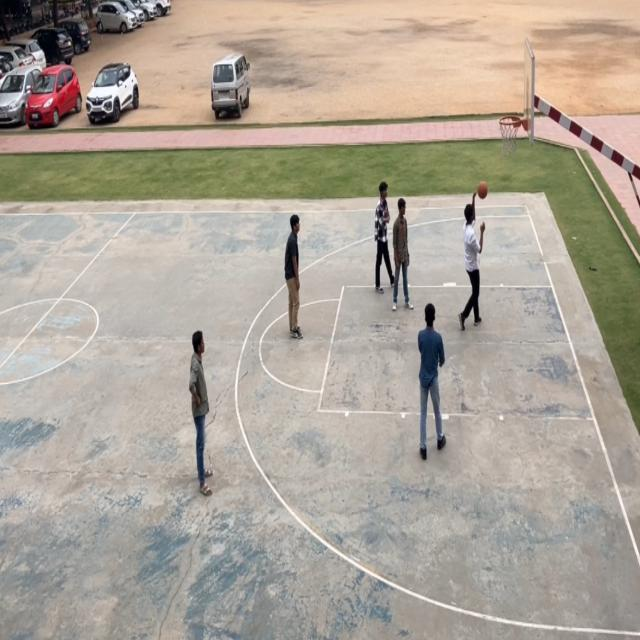basketball: (477, 181, 489, 200)
hoop: (497, 112, 523, 157)
